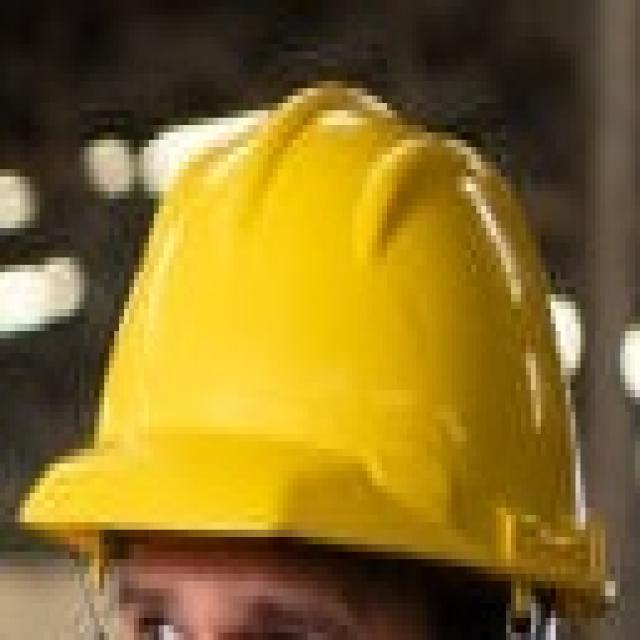Helmet: (9, 4, 638, 623)
